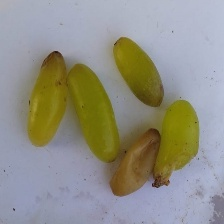grapes: (30, 30, 198, 219)
